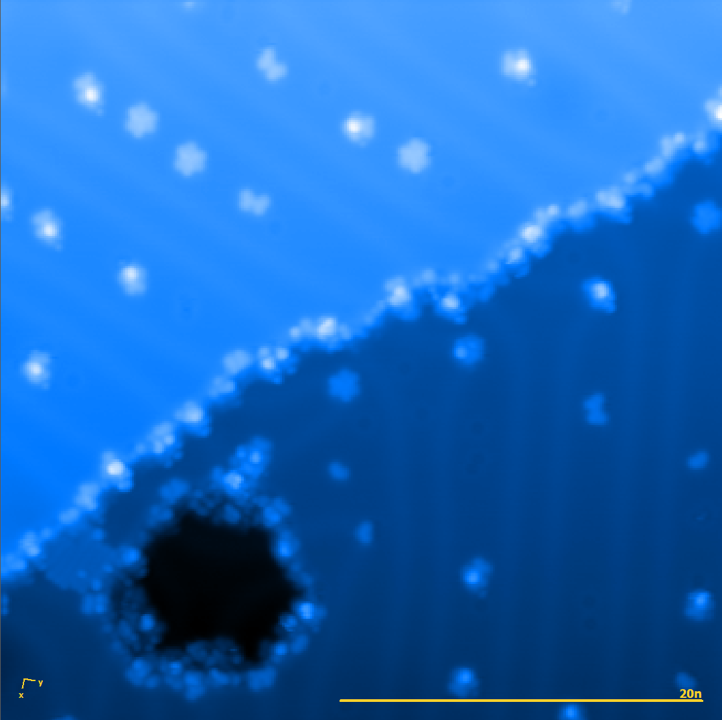M: (325, 367, 362, 403), (397, 137, 433, 174), (125, 101, 160, 138), (173, 139, 208, 176), (689, 198, 722, 235), (451, 332, 486, 366)
